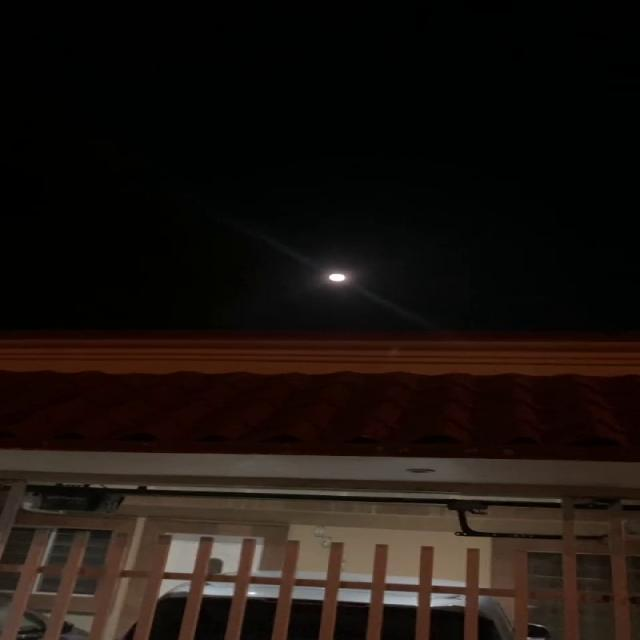moon: (320, 265, 351, 288)
